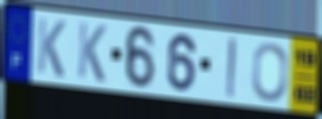6: (124, 24, 158, 92), (166, 31, 198, 94)
I: (225, 36, 237, 101)
K: (76, 19, 108, 85), (35, 15, 67, 80)
O: (250, 41, 289, 104)
